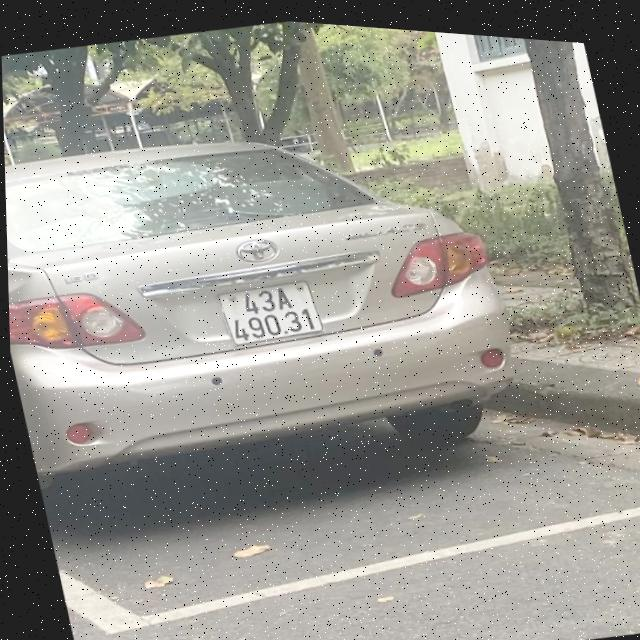car: (2, 68, 536, 572)
plate: (204, 259, 335, 364)
